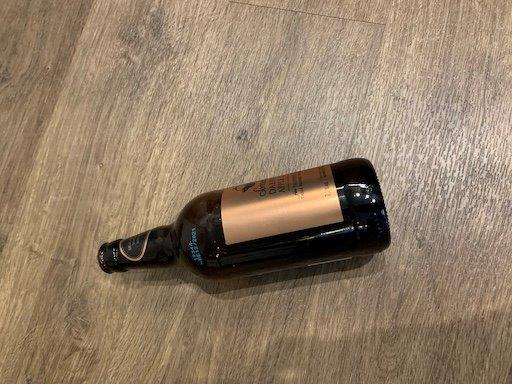botolkaca: (97, 158, 392, 280)
